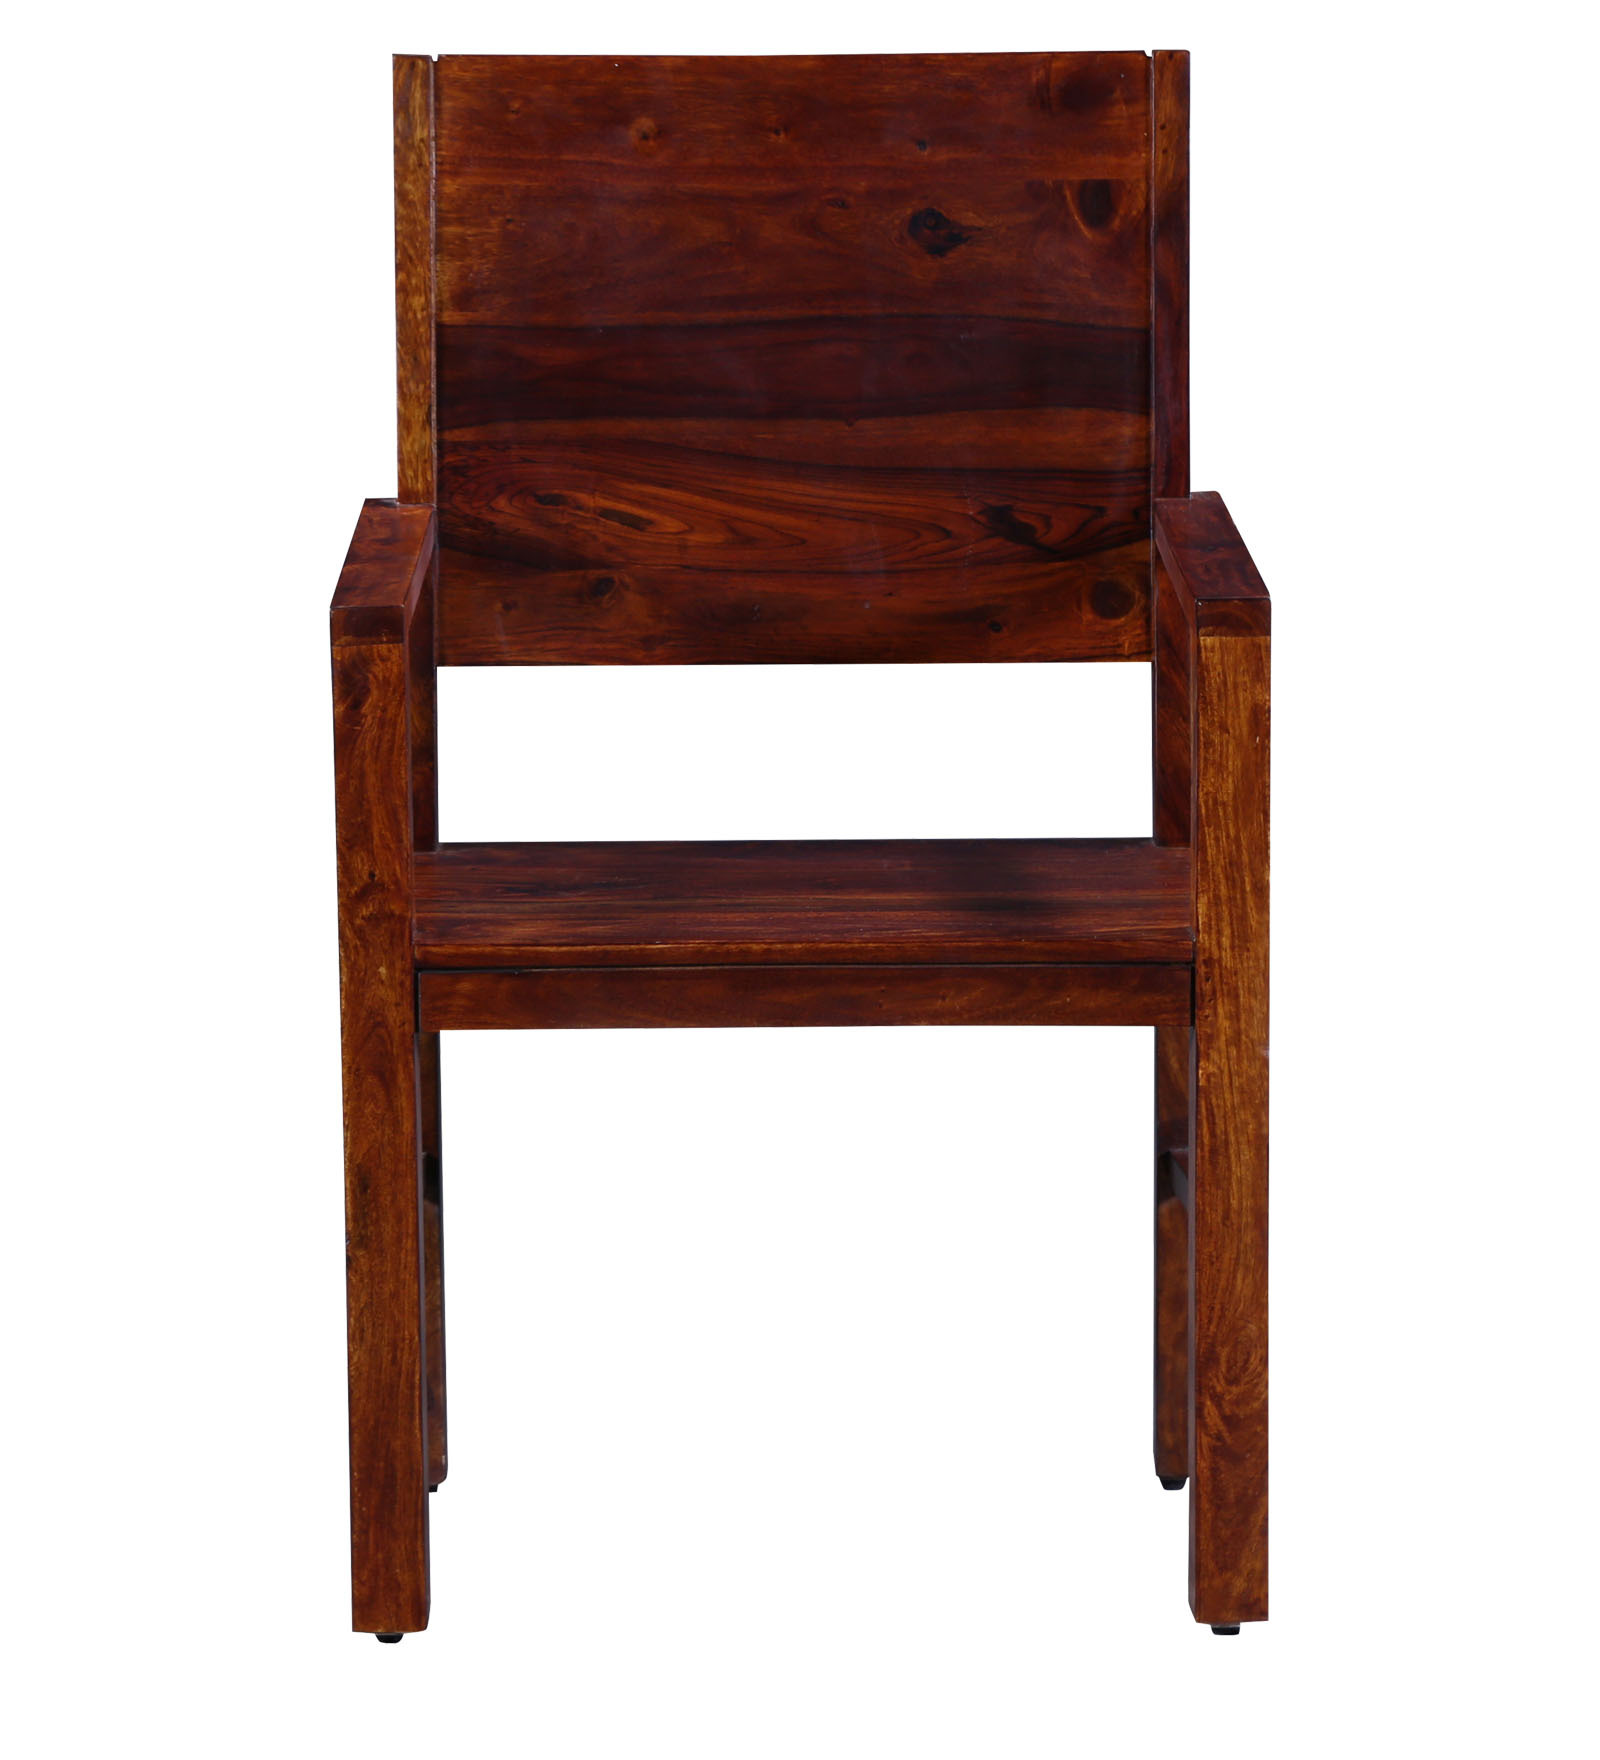Oriel Arm Chair in Honey oak Finish by Woodsworth: (320, 35, 1290, 1637)
